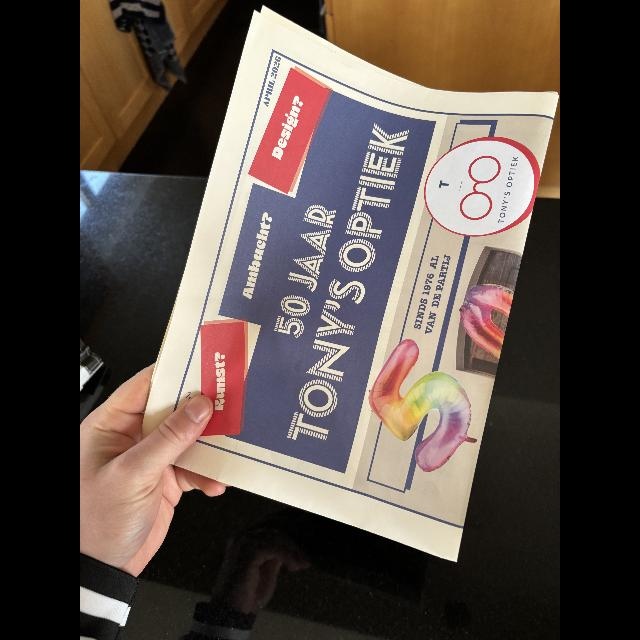Paper: (138, 4, 560, 566)
